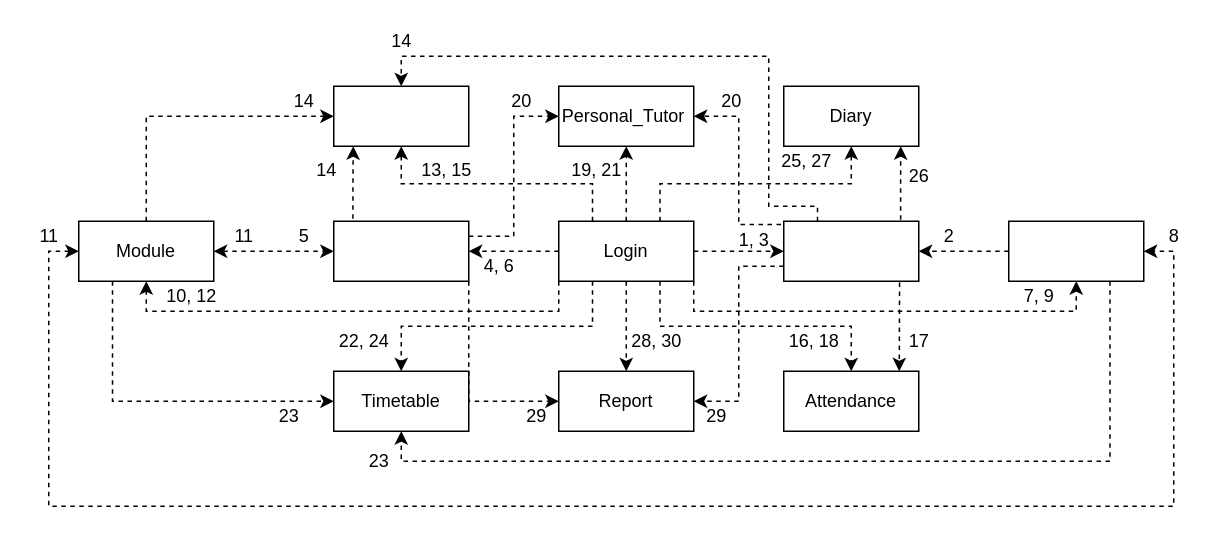
The diagram is 1214 pixels wide and 546 high, and some of its shapes have lost their labels. The shapes that lost their labels are listed below. From the top down, each one's box as (x1, y1, x2, y2) in pixels, then its label:
(332, 85, 469, 146): Assignment
(332, 220, 469, 281): Staff
(782, 220, 919, 281): Student
(1007, 220, 1144, 281): Course
